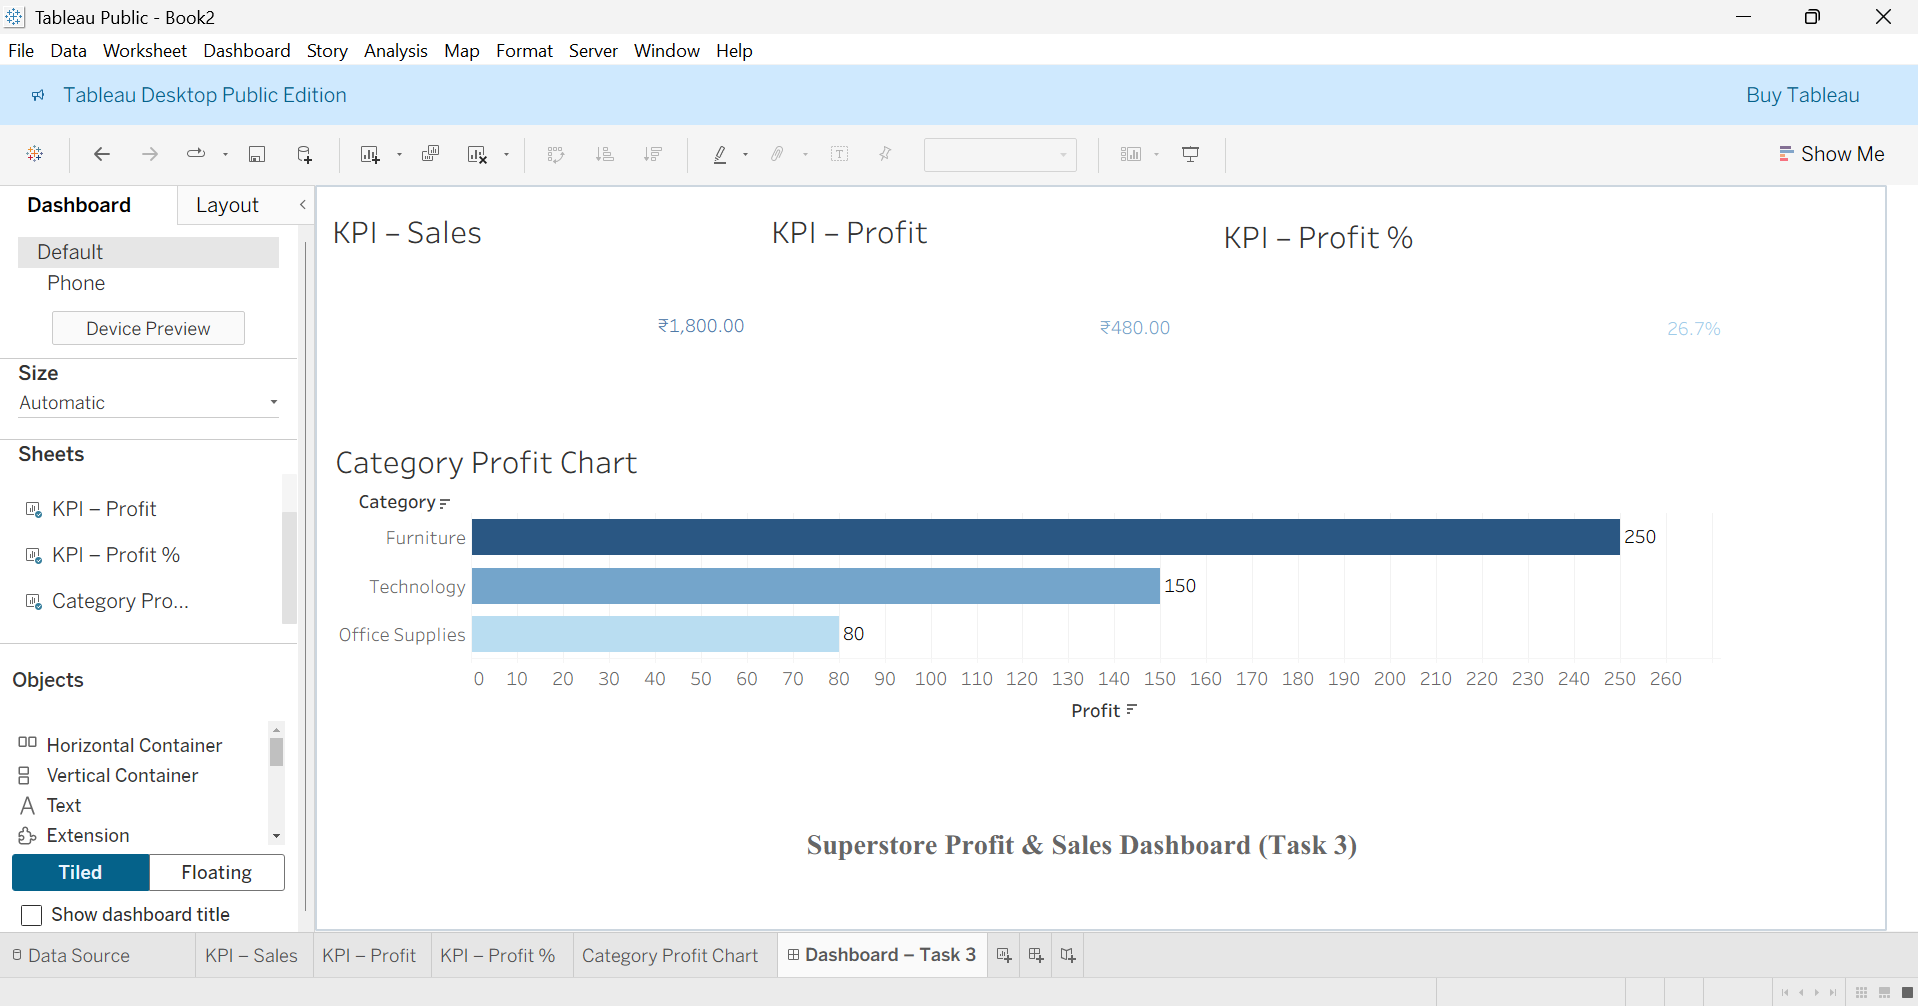

The dashboard page shown, as its layout file describes it:
{"tool":"tableau","page":{"name":"Dashboard – Task 3","canvas":[1000,1000],"units":"permille","ordinal":0},"visuals":[{"type":"worksheet","title":"KPI – Sales","mark":"Automatic","box":[5.6,22.8,268.1,253.3]},{"type":"worksheet","title":"KPI – Profit","mark":"Automatic","box":[279.3,22.8,259.4,258.7]},{"type":"worksheet","title":"KPI – Profit %","mark":"Automatic","box":[561.1,29.5,320.4,249.3]},{"type":"worksheet","title":"Category Profit Chart","mark":"Automatic","rows":["Category"],"cols":["Profit"],"box":[7.5,331.1,871.6,403.5]},{"type":"text","box":[49.9,807,856.6,155.5]}]}

Visuals, with their boxes on the dashboard's canvas, which has no fixed pixel size, in thousandths of its width and height (x1, y1, x2, y2). These are canvas units, not pixel positions in the 1918x1006 screenshot, which may show the page scaled, cropped or inside an application window:
"KPI – Sales" worksheet: 6,23,274,276
"KPI – Profit" worksheet: 279,23,539,282
"KPI – Profit %" worksheet: 561,30,882,279
"Category Profit Chart" worksheet: 8,331,879,735
text: 50,807,906,962
